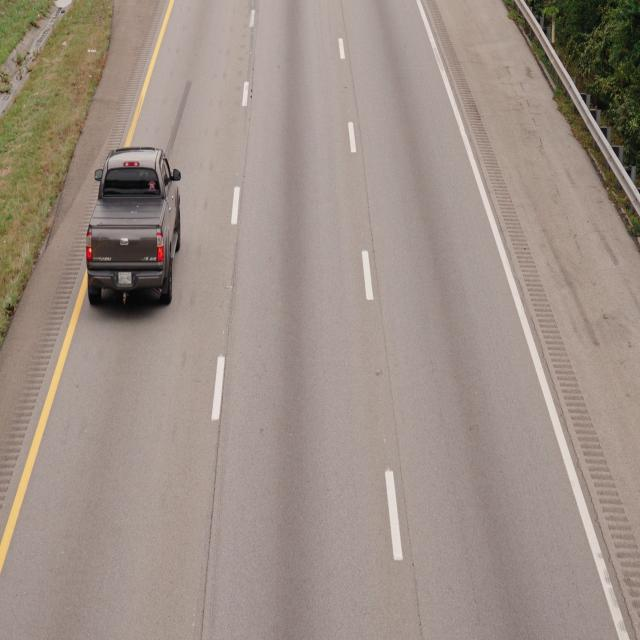Car: (86, 144, 188, 313)
